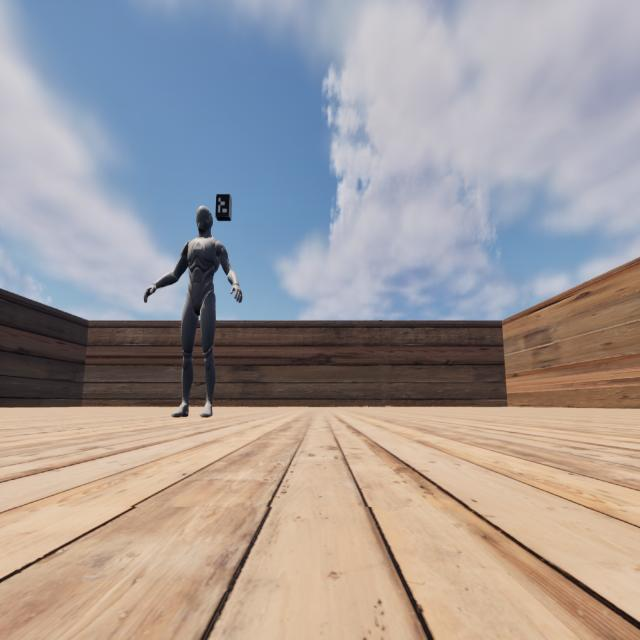aruco: (215, 194, 230, 218)
hip: (186, 290, 216, 302)
